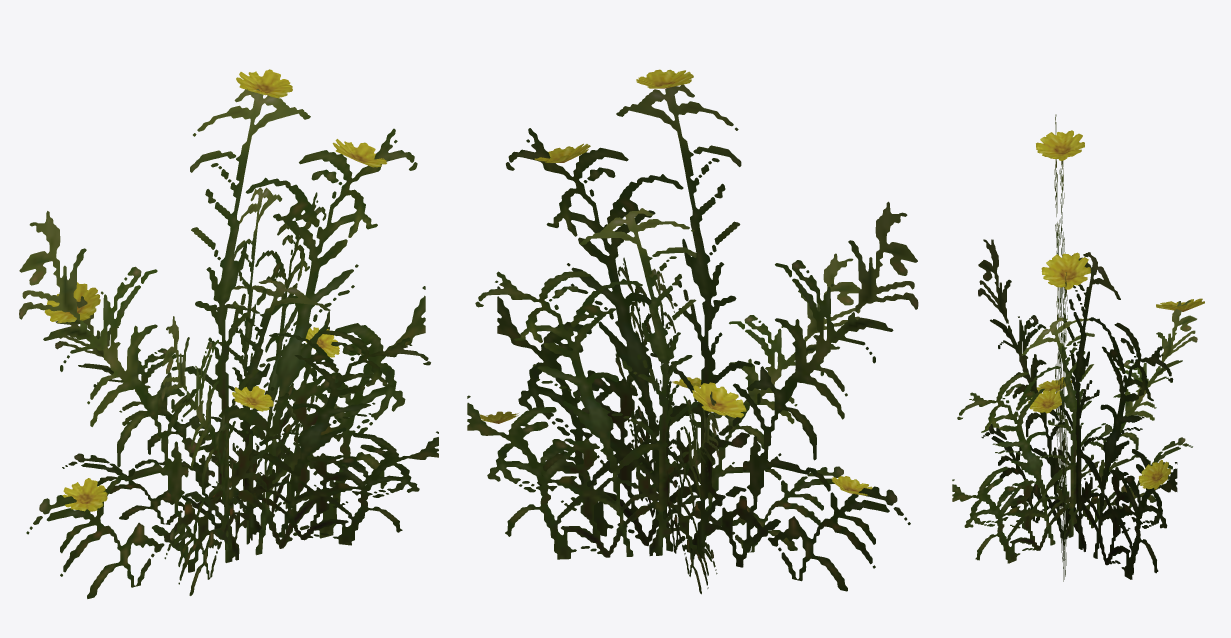
Rendered from Dingqingchuan_wujian_11.FBX.
3 views of the same model, side by side, from view 1: azimuth 30°, elevation 25°; view 2: azimuth 150°, elevation 25°; view 3: azimuth 270°, elevation 25° (orthographic). The views are drawn at different scales.
Visible parts, largest first — view 1: Plane524; view 2: Plane524; view 3: Plane524.
Boxes of the visible parts, bbox=[...] form: Plane524: bbox=[19, 69, 438, 598]; Plane524: bbox=[467, 69, 918, 594]; Plane524: bbox=[952, 114, 1204, 581].
Bounding box in the file's own units: 5.65 × 6.42 × 3.56.
